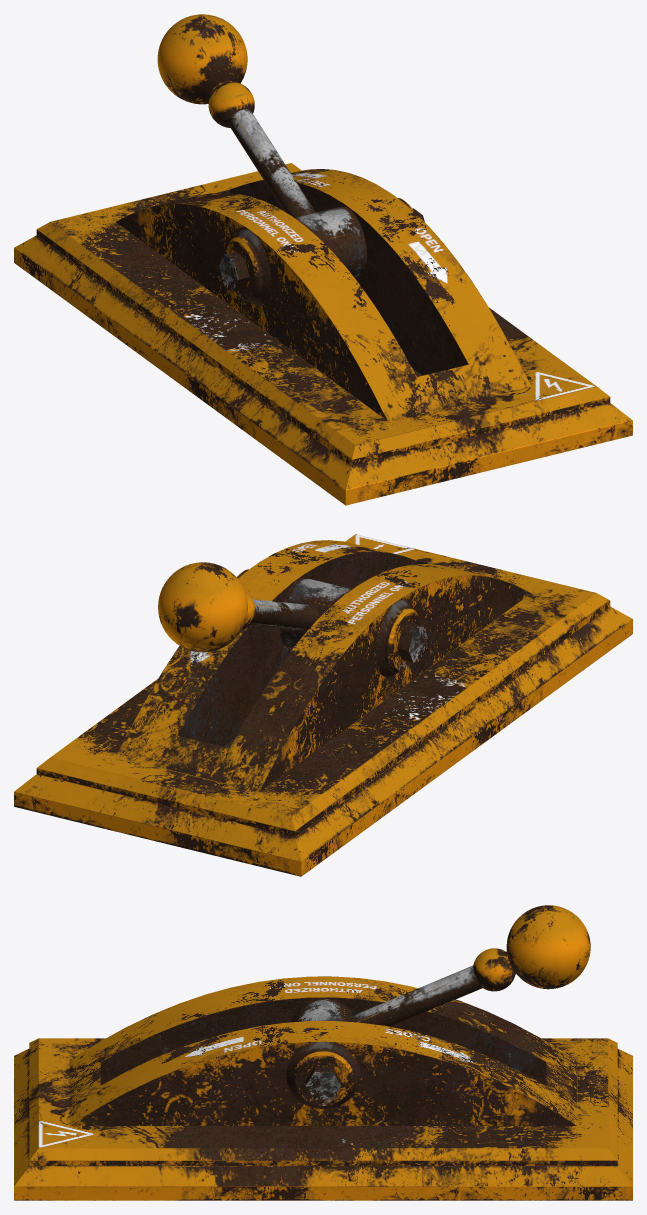
Rendered from industrial_electricitys_lever.glb.
The picture shows the model from 3 angles, top to bottom: view 1: azimuth 30°, elevation 25°; view 2: azimuth 150°, elevation 25°; view 3: azimuth 270°, elevation 25°; orthographic projection. The views are drawn at different scales.
Visible parts, largest first — view 1: Lever - l1-1, Lever - l1-1_lver_0.001; view 2: Lever - l1-1, Lever - l1-1_lver_0.001; view 3: Lever - l1-1, Lever - l1-1_lver_0.001.
Boxes of the visible parts, <box> form: Lever - l1-1: <box>14,163,632,505</box>; Lever - l1-1_lver_0.001: <box>157,14,367,277</box>; Lever - l1-1: <box>14,534,632,876</box>; Lever - l1-1_lver_0.001: <box>158,562,351,652</box>; Lever - l1-1: <box>14,976,632,1200</box>; Lever - l1-1_lver_0.001: <box>291,905,590,1026</box>.
Size of the model in its own units: 0.635 by 0.5118 by 1.27.
1 material, 1 textured.
